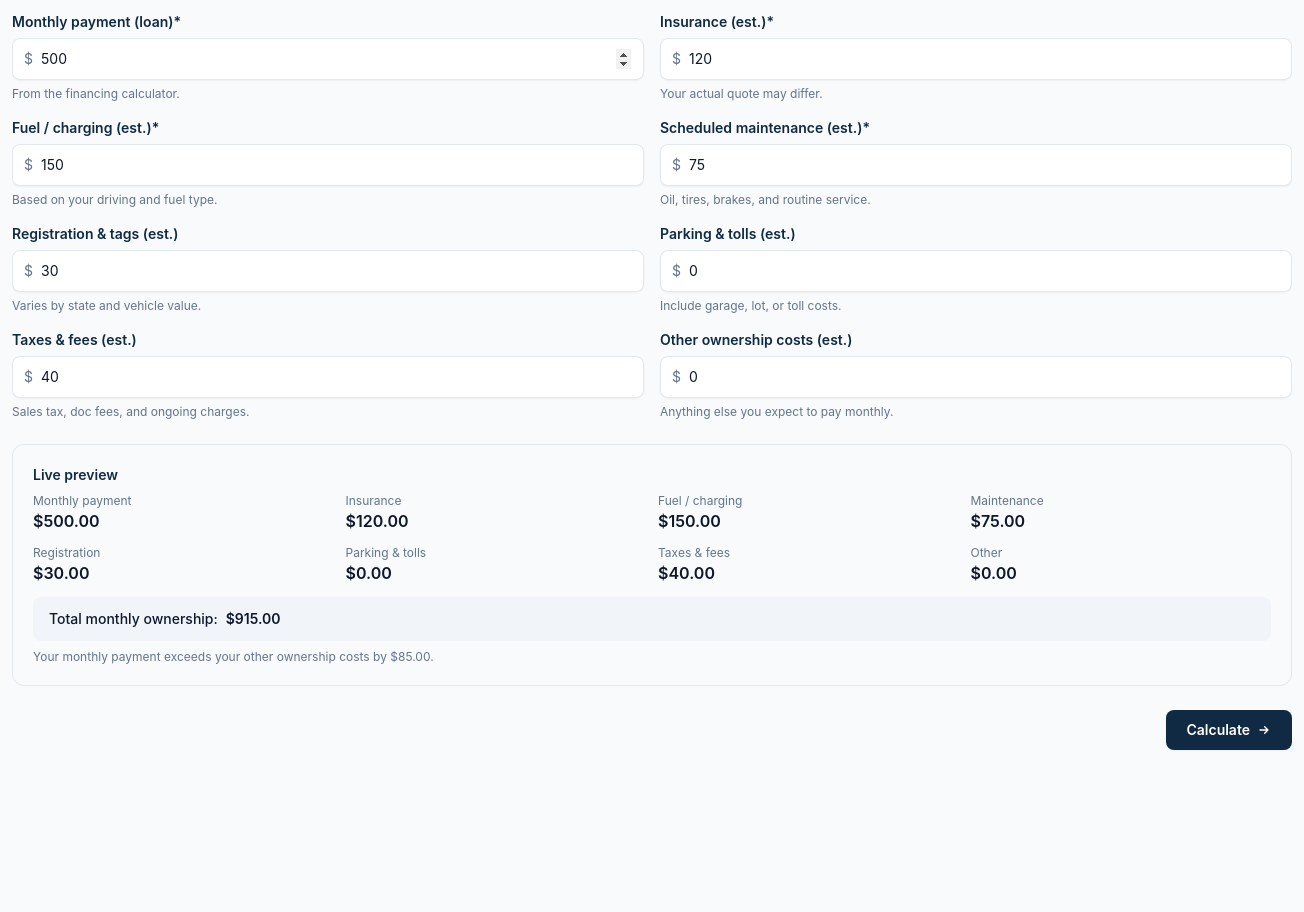
Test: OwnershipBudget › validates required fields and shows errors on submit
Clear the number field labelled "Monthly payment (loan)*". click: (328, 59)
box: [12,38,644,80]
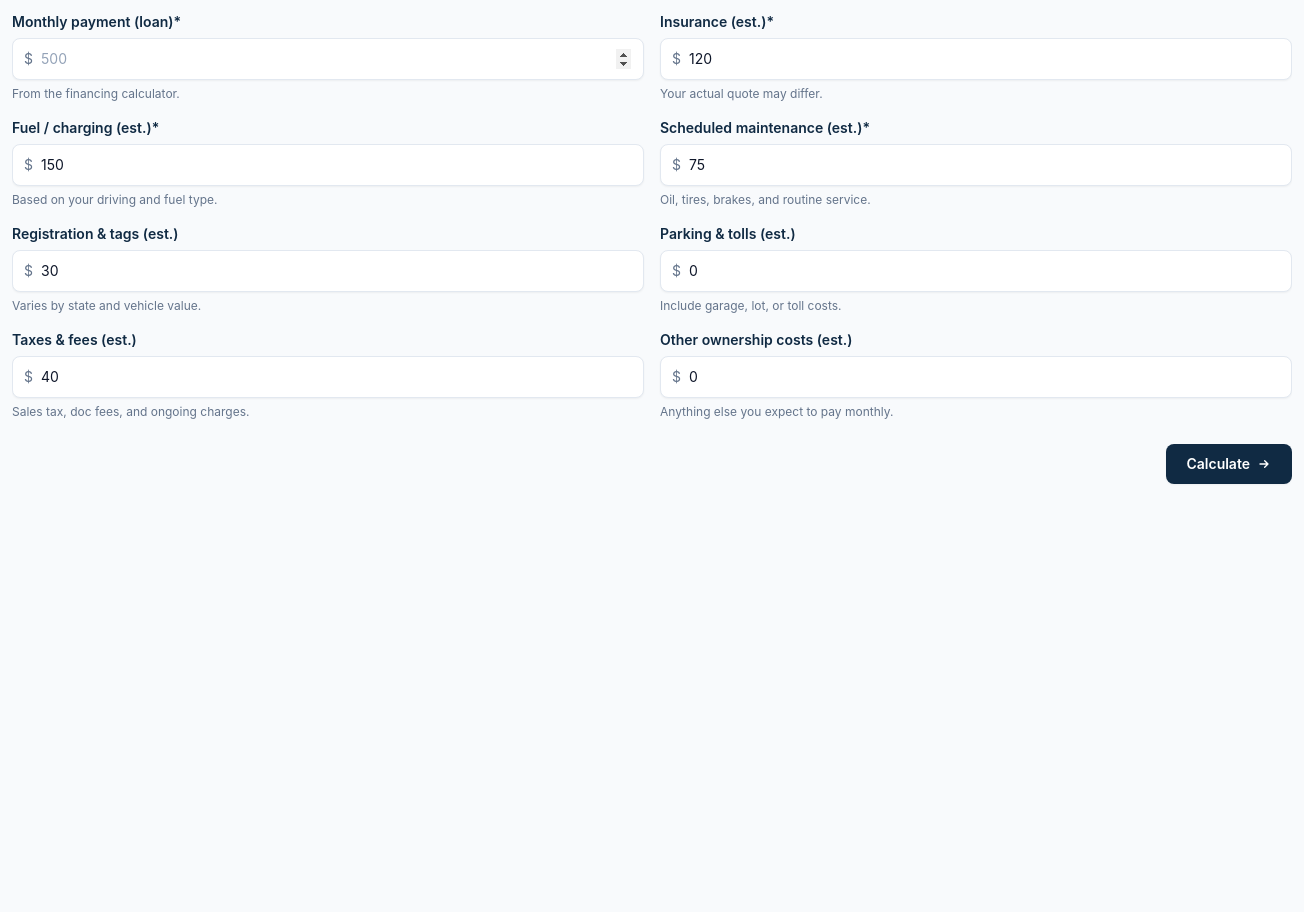
Click the button "Calculate". click: (1229, 464)
box: [1166,444,1292,484]
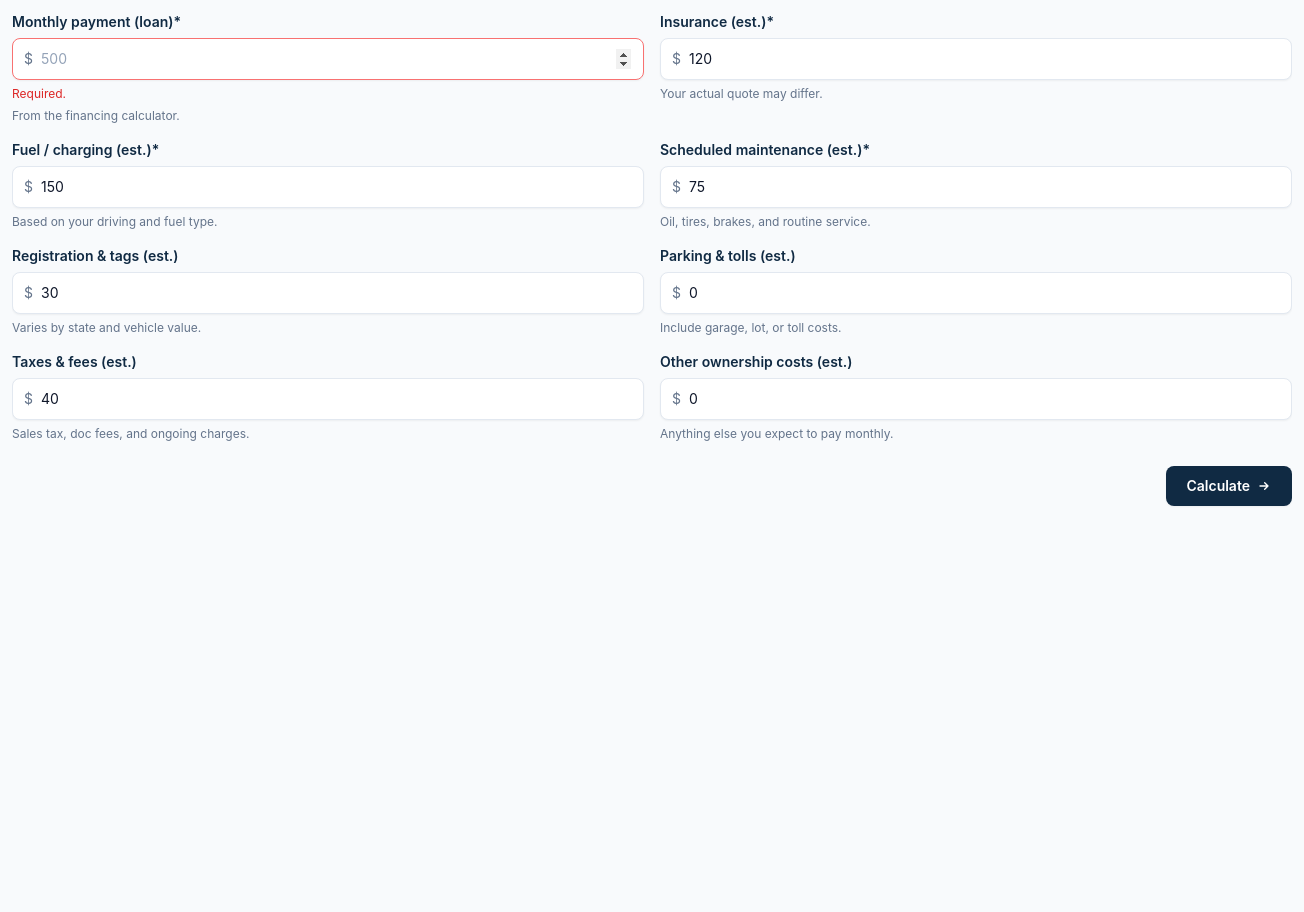
Expected: the text "Required." is shown, [12,86,66,101]
